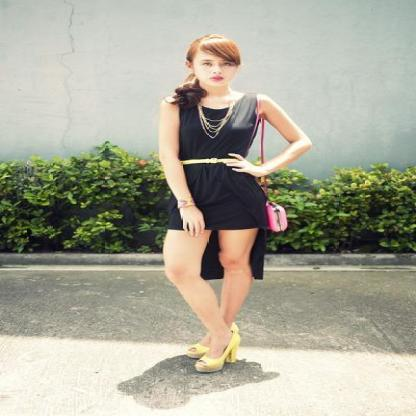bag: (266, 201, 296, 232)
dress: (149, 96, 286, 279)
shoe: (182, 324, 239, 371)
